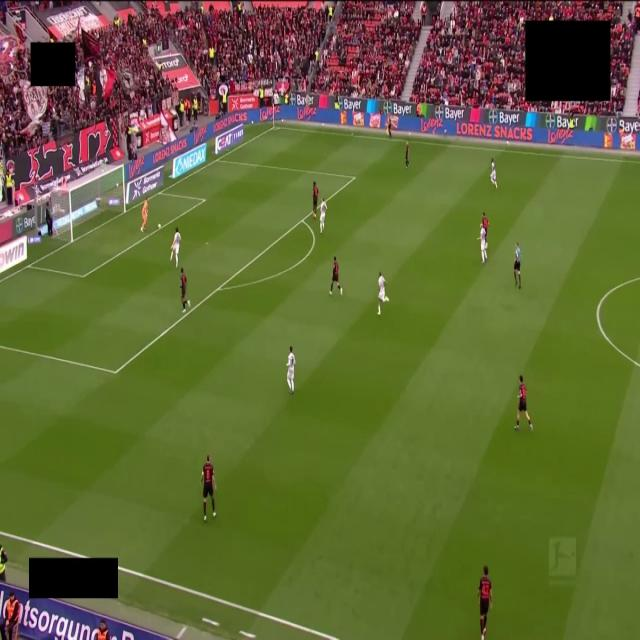ball: (158, 224, 160, 229)
player: (478, 565, 492, 640), (201, 456, 216, 521), (515, 376, 532, 431), (330, 256, 342, 295), (378, 272, 388, 315), (180, 269, 190, 312), (170, 227, 180, 268), (287, 346, 295, 393), (478, 224, 487, 263), (320, 199, 326, 233), (490, 159, 497, 188), (482, 213, 488, 245), (141, 200, 147, 231), (313, 182, 318, 218), (405, 142, 409, 167)
referee: (514, 243, 520, 288)
